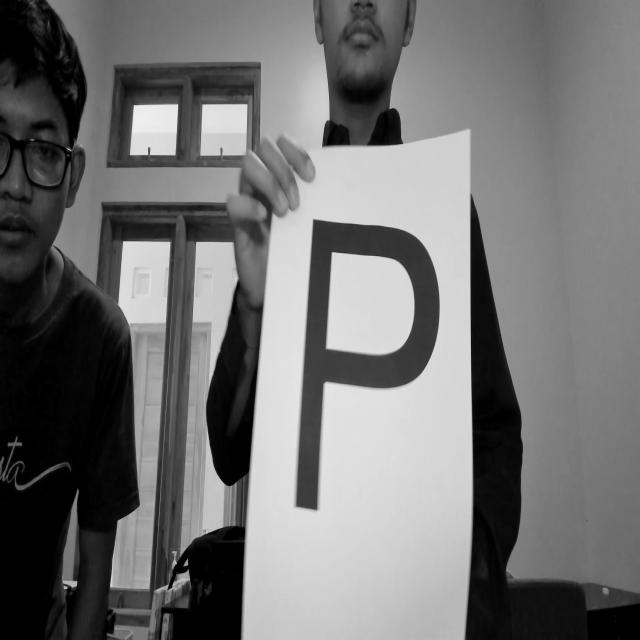p: (284, 191, 442, 562)
